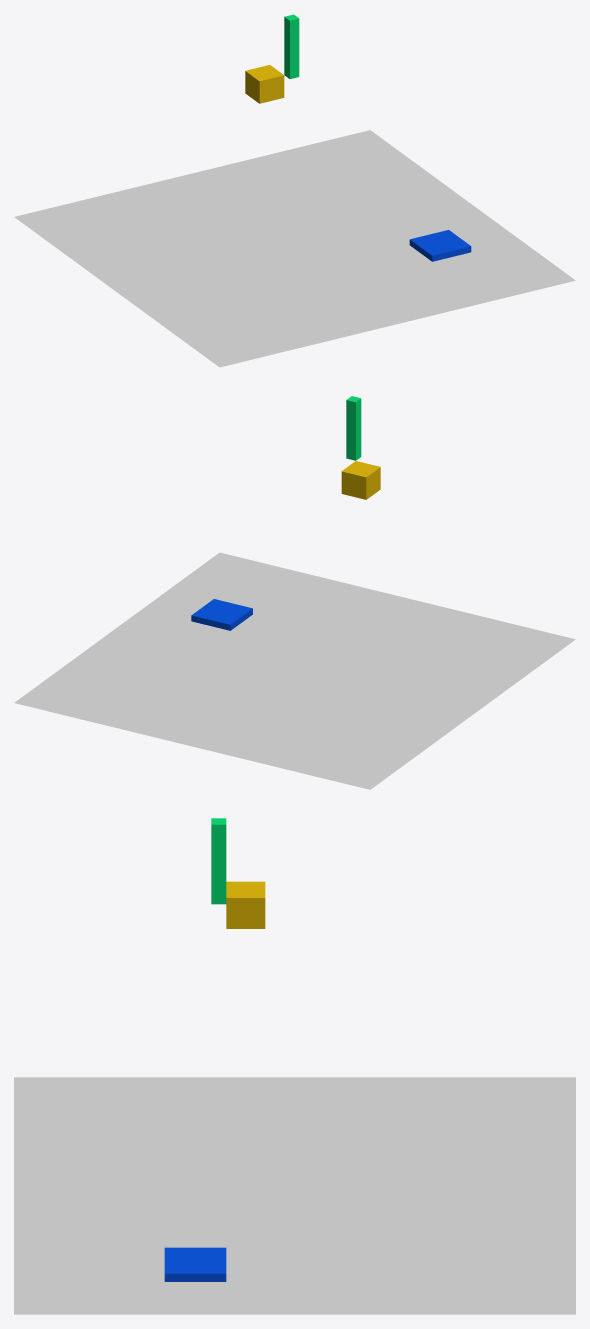
The model's file is AnimationTest_1.fbx.
The picture shows the model from 3 angles, top to bottom: view 1: azimuth 30°, elevation 25°; view 2: azimuth 150°, elevation 25°; view 3: azimuth 270°, elevation 25°; orthographic projection. The views are drawn at different scales.
Visible parts, largest first — view 1: Plane.003, Cube, Cube.002, Cube.001; view 2: Plane.003, Cube, Cube.002, Cube.001; view 3: Plane.003, Cube, Cube.002, Cube.001.
Boxes of the visible parts, x1,y1,x2,y2 form: Plane.003: (14, 130, 575, 367); Cube: (409, 230, 471, 261); Cube.002: (245, 65, 284, 103); Cube.001: (284, 14, 299, 78); Plane.003: (14, 552, 575, 789); Cube: (191, 599, 252, 630); Cube.002: (341, 461, 380, 499); Cube.001: (346, 396, 361, 460); Plane.003: (14, 1077, 575, 1314); Cube: (164, 1247, 226, 1281); Cube.002: (226, 881, 265, 928); Cube.001: (211, 818, 226, 904).
Bounding box in the file's own units: 10830 × 7528 × 10830.
